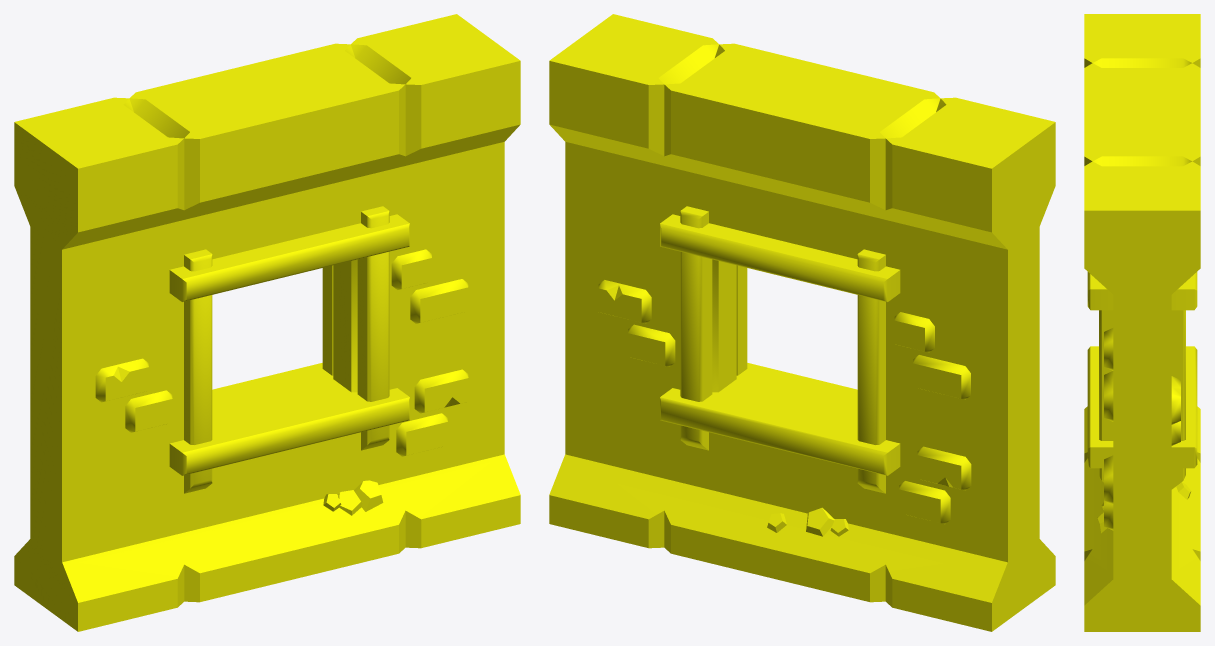
Rendered from kaykit-wall-window-open.glb.
3 views of the same model, side by side, from view 1: azimuth 30°, elevation 25°; view 2: azimuth 150°, elevation 25°; view 3: azimuth 270°, elevation 25° (orthographic). The views are drawn at different scales.
Parts seen in each view (by area): view 1: wall_window_open; view 2: wall_window_open; view 3: wall_window_open.
Boxes of the visible parts, x1=… form: wall_window_open: x1=14, y1=14, x2=520, y2=631; wall_window_open: x1=549, y1=14, x2=1055, y2=631; wall_window_open: x1=1084, y1=14, x2=1200, y2=631.
Bounding box in the file's own units: 4 × 4 × 1.
